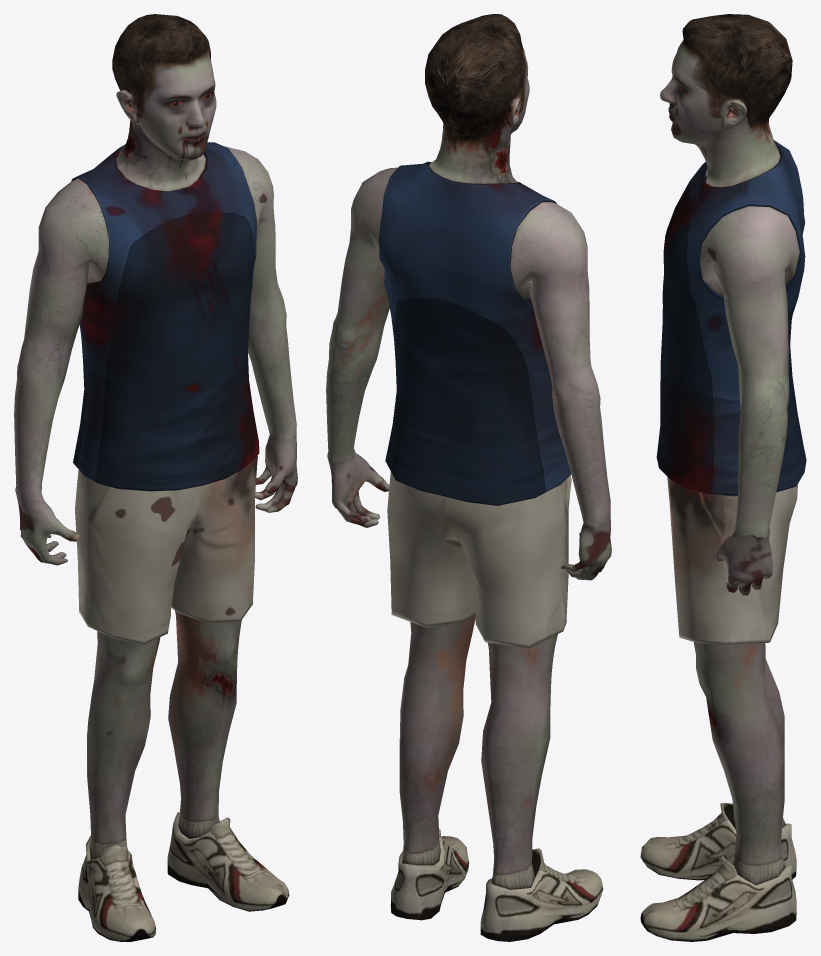
The model's file is athlete.glb.
3 views of the same model, side by side, from view 1: azimuth 30°, elevation 25°; view 2: azimuth 150°, elevation 25°; view 3: azimuth 270°, elevation 25° (orthographic).
Parts seen in each view (by area): view 1: athlete; view 2: athlete; view 3: athlete.
Boxes of the visible parts, <box> form: athlete: <box>14,14,297,941</box>; athlete: <box>326,14,611,941</box>; athlete: <box>640,14,806,941</box>.
Bounding box in the file's own units: 0.59 × 1.8 × 0.3088.
2 materials, 2 textured.
